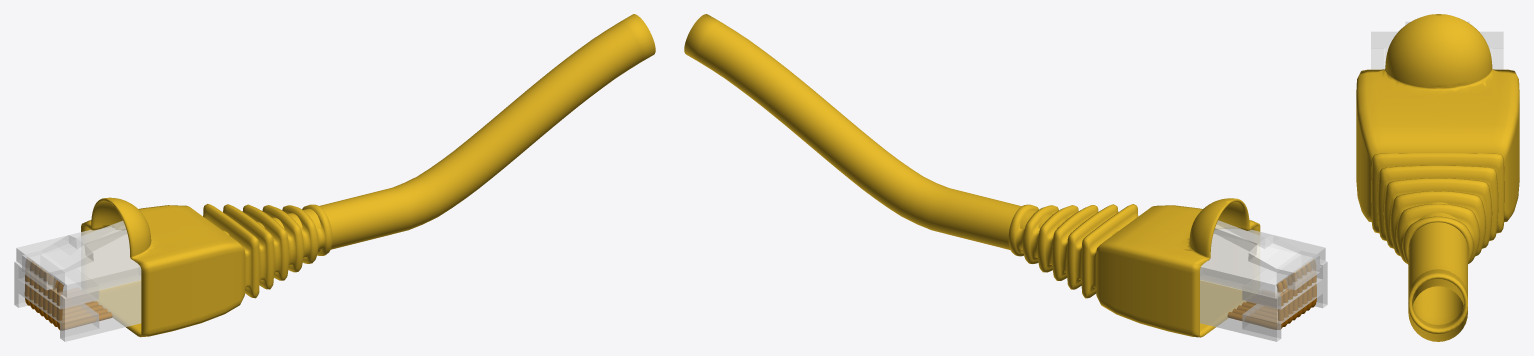
Rendered from ethernet.glb.
3 views of the same model, side by side, from view 1: azimuth 30°, elevation 25°; view 2: azimuth 150°, elevation 25°; view 3: azimuth 270°, elevation 25° (orthographic). The views are drawn at different scales.
Visible parts, largest first — view 1: Cube.001; view 2: Cube.001; view 3: Cube.001.
Boxes of the visible parts, x1,y1,x2,y2 form: Cube.001: [14, 14, 655, 341]; Cube.001: [684, 14, 1327, 341]; Cube.001: [1356, 14, 1519, 341].
Bounding box in the file's own units: 11.34 × 3.06 × 2.
